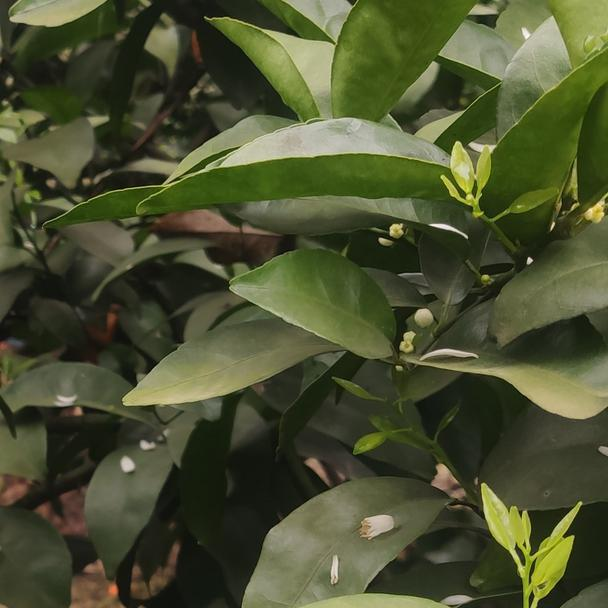shoot: (477, 479, 578, 608)
